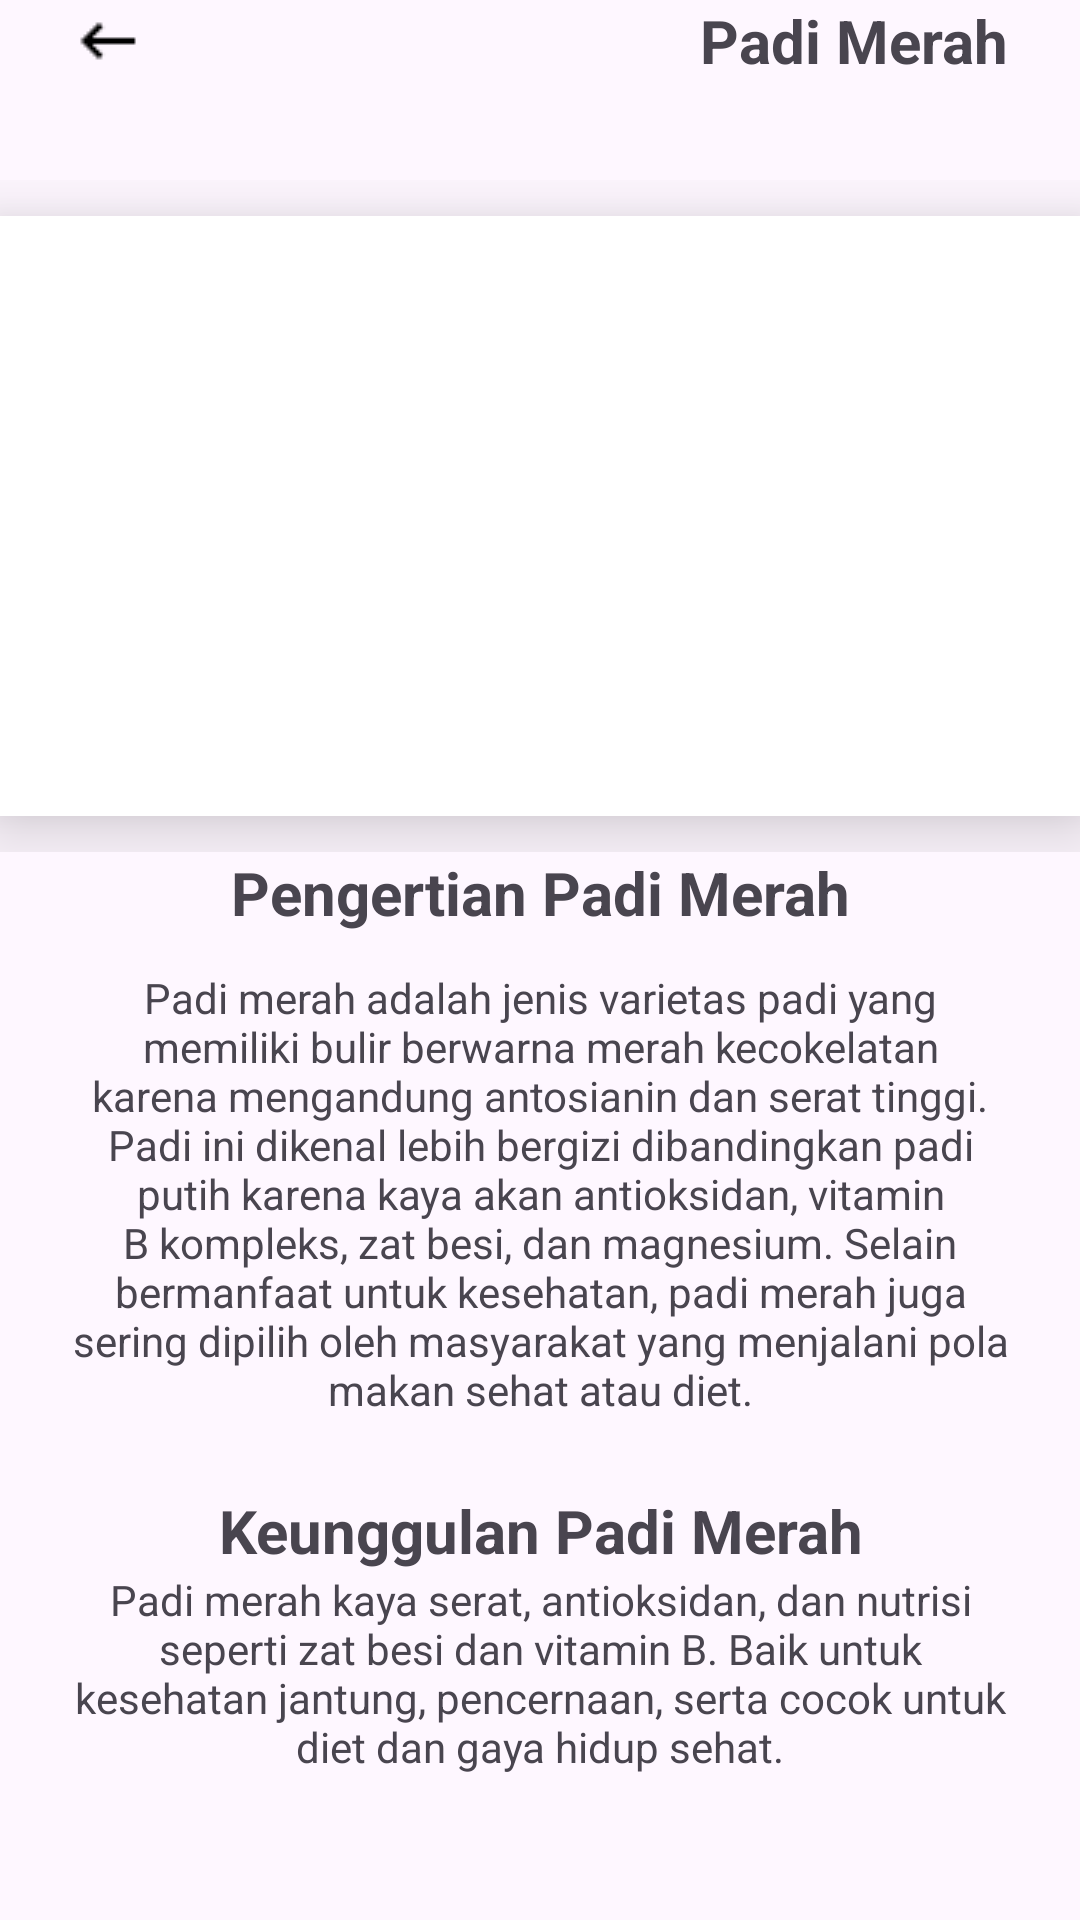

Icon click points for this 1080 × 1920 phone screenshot, format point (x, y):
keyboard backspace: point (108, 41)
